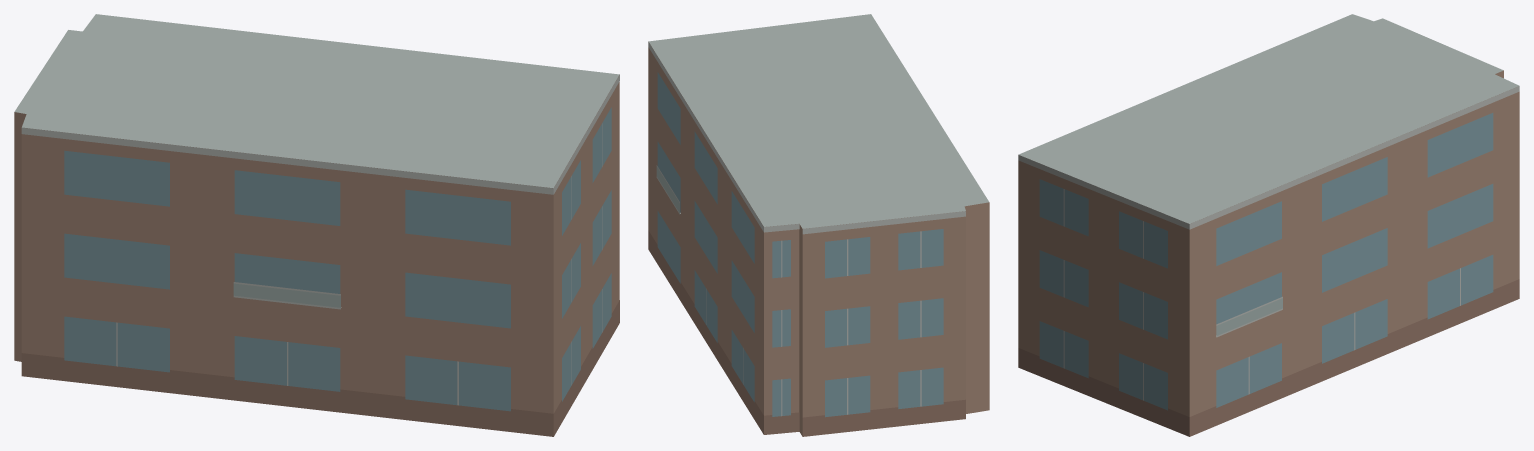
File: survey-upis-32696006.glb
3 views of the same model, side by side, from view 1: azimuth 30°, elevation 25°; view 2: azimuth 150°, elevation 25°; view 3: azimuth 270°, elevation 25° (orthographic). The views are drawn at different scales.
Parts seen in each view (by area): view 1: survey-upis-32696006.tmp; view 2: survey-upis-32696006.tmp; view 3: survey-upis-32696006.tmp.
Part boxes in pixels (x1=…): survey-upis-32696006.tmp: x1=14, y1=14, x2=619, y2=436; survey-upis-32696006.tmp: x1=648, y1=14, x2=989, y2=436; survey-upis-32696006.tmp: x1=1018, y1=14, x2=1519, y2=436.
Bounding box in the file's own units: 19.37 × 9.15 × 19.54.
